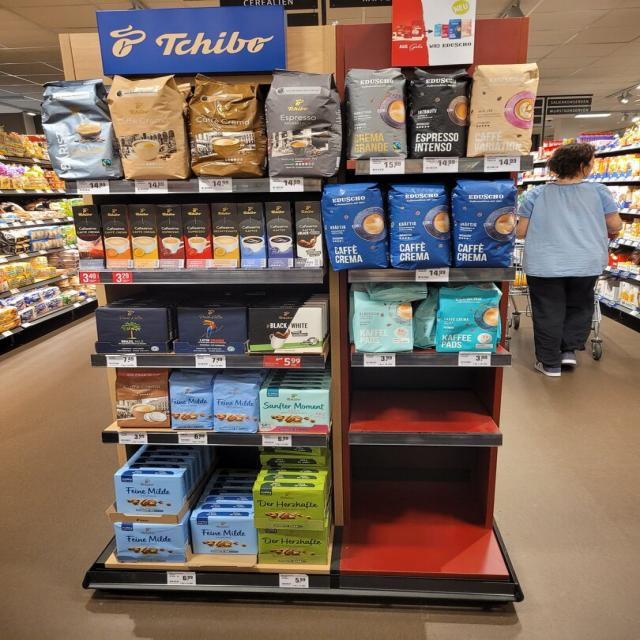BM Gemahlen: (95, 308, 170, 356)
BW Gemahlen: (248, 307, 325, 355)
Barista CC: (41, 78, 118, 178)
CC Mild: (108, 74, 188, 179)
CC Vollmundig: (113, 368, 170, 429)
CC Vollmundig 36 Pads: (190, 71, 263, 177)
Espresso Aromatisch: (266, 66, 340, 177)
FM Bohne: (168, 373, 214, 430), (213, 378, 259, 433)
FM Gemahlen: (114, 522, 188, 564), (114, 474, 184, 517), (189, 517, 258, 556)
Herzhatfe Mundig: (253, 489, 326, 532), (258, 530, 330, 566)
LG Gemahlen: (176, 306, 248, 354)
SM Gemahlen: (260, 387, 332, 434)
Simo CC Colombia: (72, 203, 105, 269)
Simo CCMild bigpack: (129, 204, 158, 268)
Simo CCVollmundig bigpack: (101, 204, 131, 268)
Simo Decaff: (212, 203, 240, 268)
Simo Es Brazil: (181, 204, 213, 268)
Simo Es Caramel: (156, 204, 184, 268)
Simo Es Elegant: (294, 201, 321, 267)
Simo Es Kraft: (266, 202, 295, 268)
Simo Es Vanilla: (237, 203, 267, 268)
